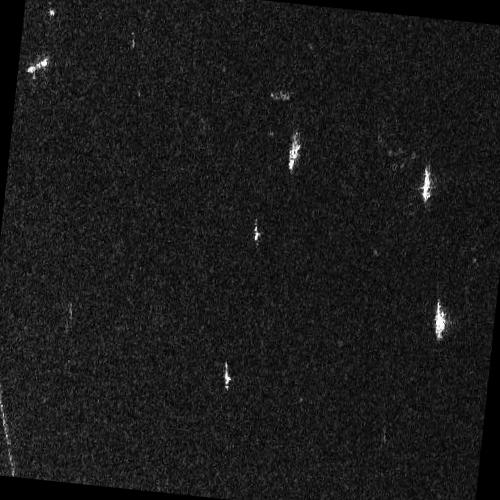ship: (287, 130, 301, 172), (433, 299, 446, 341), (26, 56, 48, 74), (421, 164, 431, 203), (223, 360, 230, 391), (253, 220, 260, 244)
